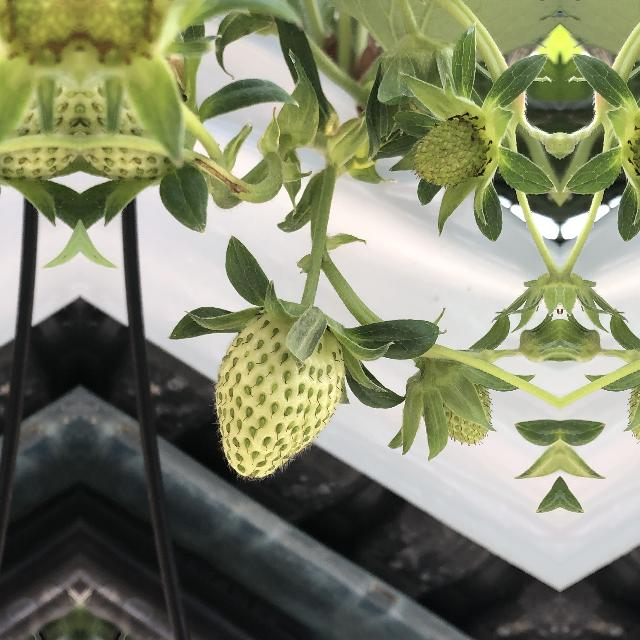Health_25: (210, 304, 344, 478), (80, 78, 188, 182), (0, 78, 80, 181), (410, 111, 498, 192), (622, 111, 640, 192)
